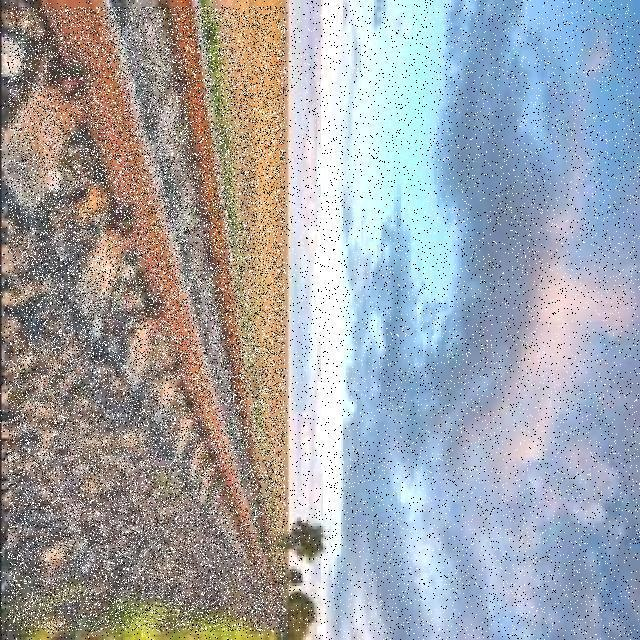rail: (9, 7, 285, 631)
